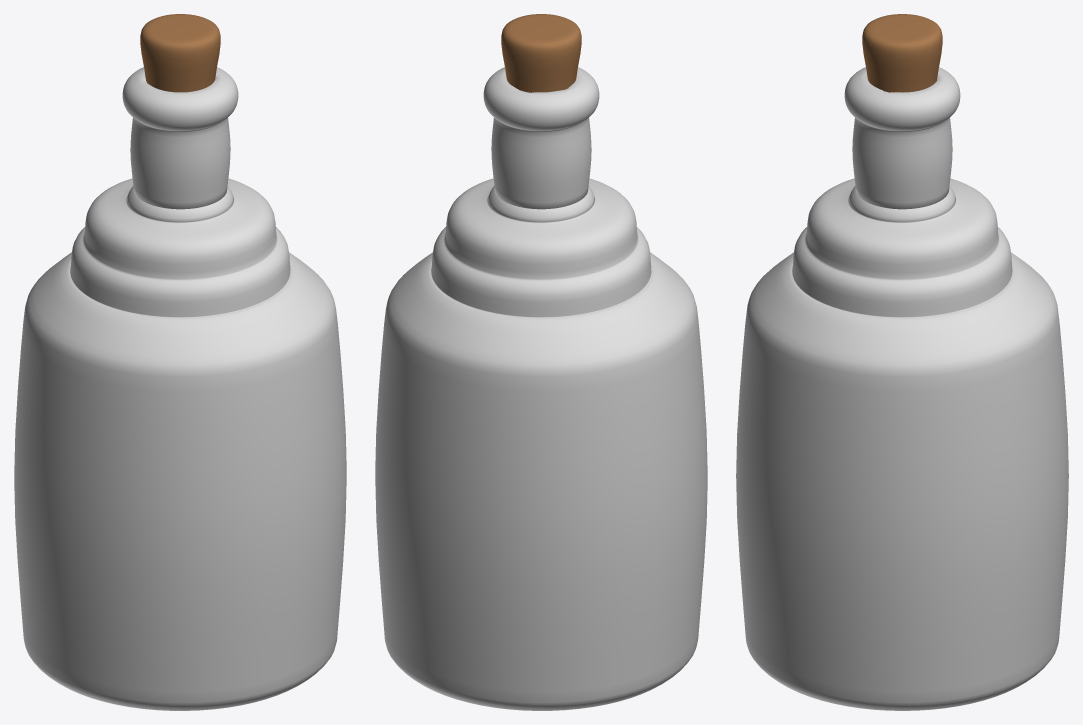
The model's file is bottle.fbx.
The picture shows the model from 3 angles, left to right: view 1: azimuth 30°, elevation 25°; view 2: azimuth 150°, elevation 25°; view 3: azimuth 270°, elevation 25°; orthographic projection.
Parts seen in each view (by area): view 1: bottiglia, tappo; view 2: bottiglia, tappo; view 3: bottiglia, tappo.
Part boxes in pixels (x1,y1,x2,y2): bottiglia: (14, 67, 346, 710); tappo: (140, 14, 220, 92); bottiglia: (375, 67, 707, 710); tappo: (501, 14, 581, 92); bottiglia: (736, 67, 1068, 710); tappo: (862, 14, 942, 92).
Size of the model in its own units: 45.05 by 92.97 by 45.05.
